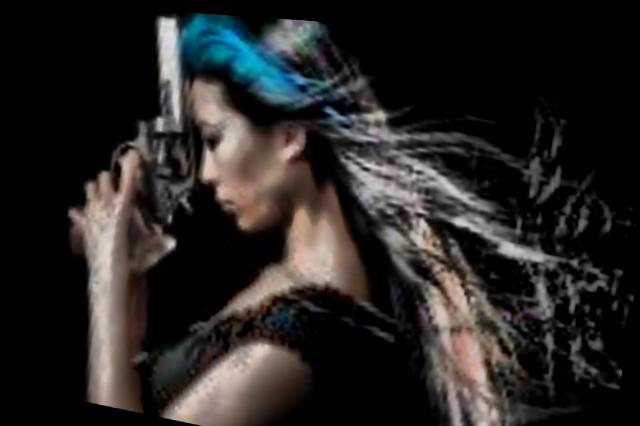pistol: (76, 4, 222, 256)
